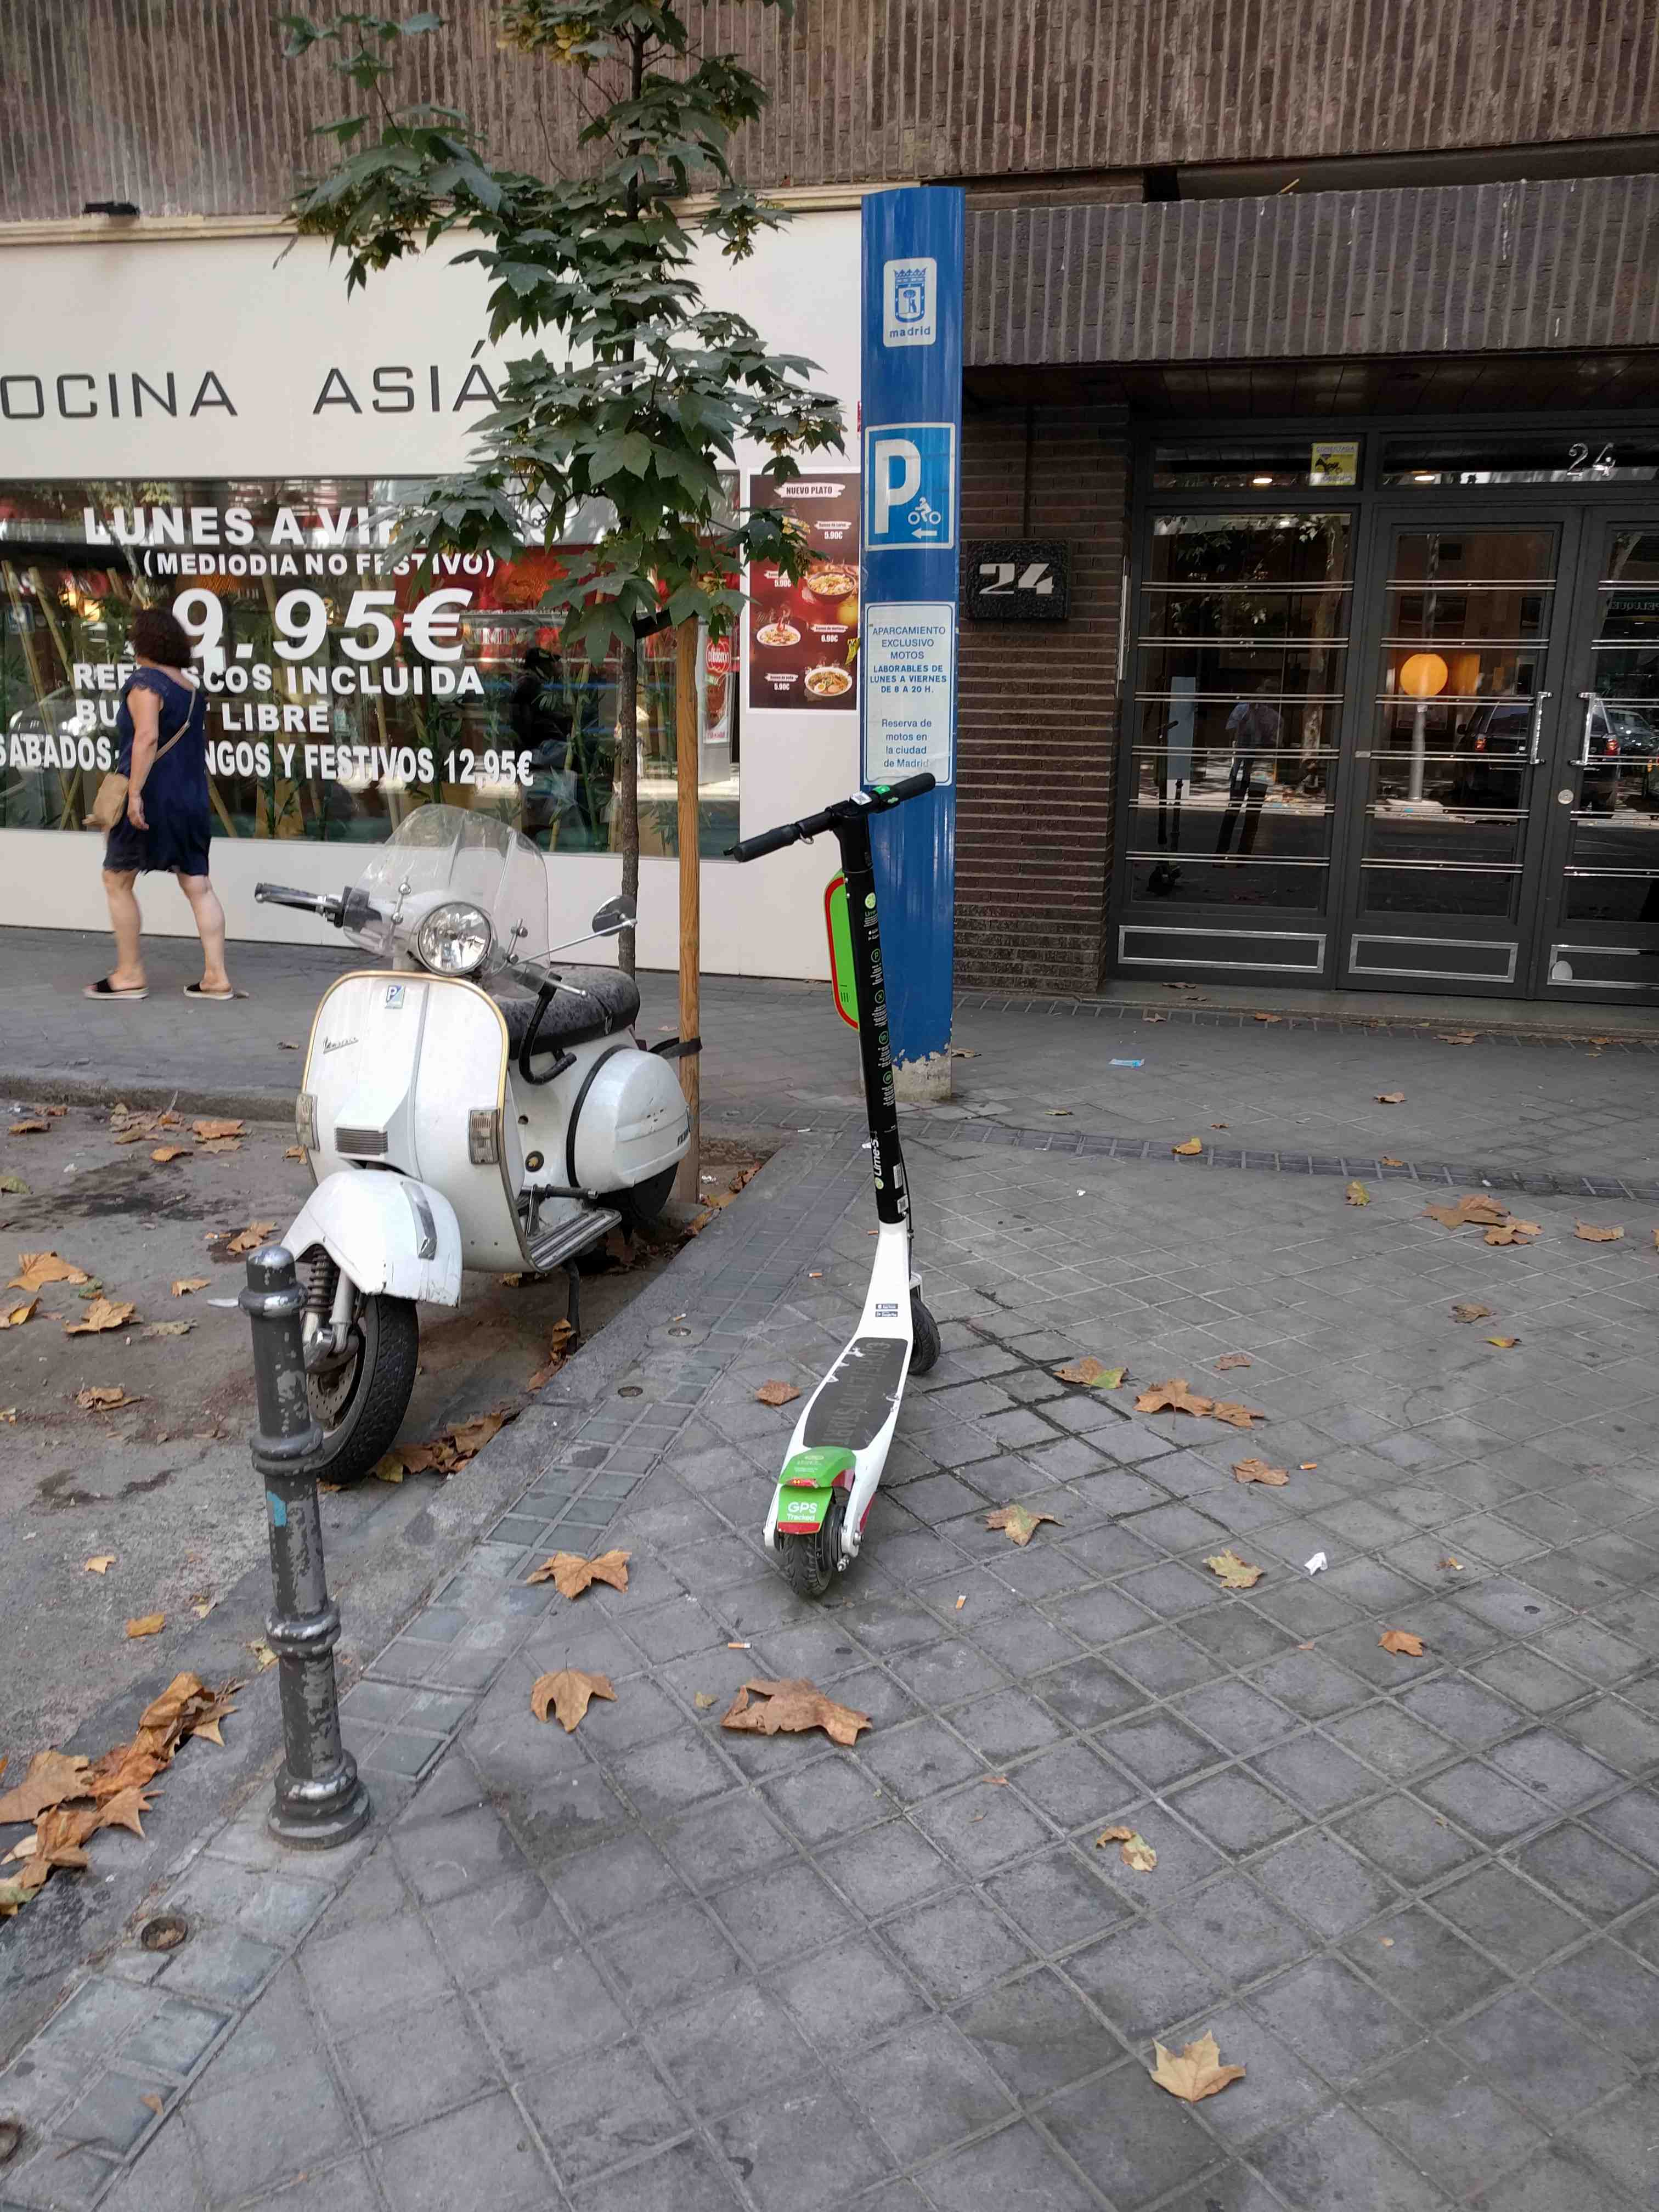scooter: (714, 759, 1004, 1594)
